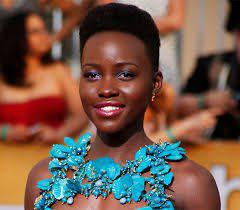Sober: (81, 41, 149, 127)
